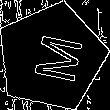M_W: (21, 29, 81, 85)
